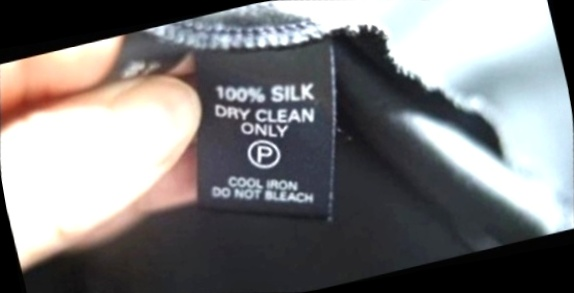dry_clean_any_solvent_except_trichloroethylene: (237, 126, 293, 181)
